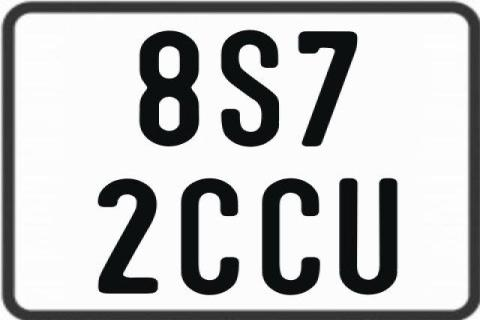0: (138, 28, 203, 147), (298, 29, 363, 147), (98, 178, 158, 298)
C: (181, 177, 240, 297), (259, 178, 317, 298)
S: (220, 29, 282, 149)
U: (339, 177, 402, 297)
